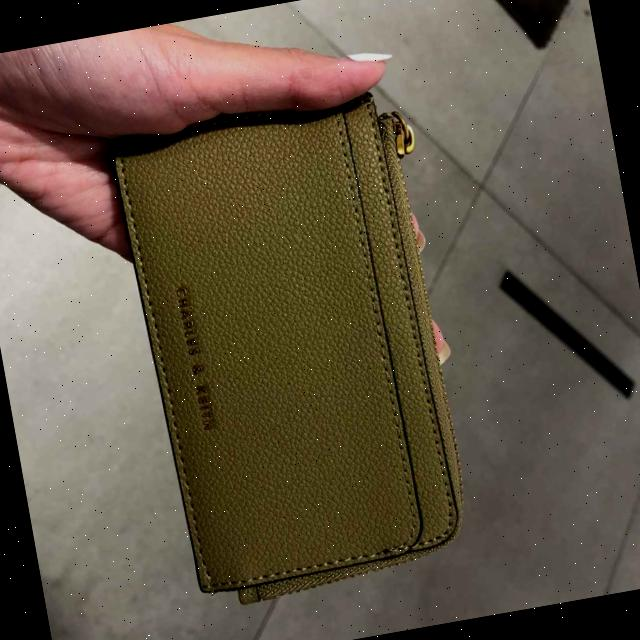handbag: (88, 54, 497, 622)
